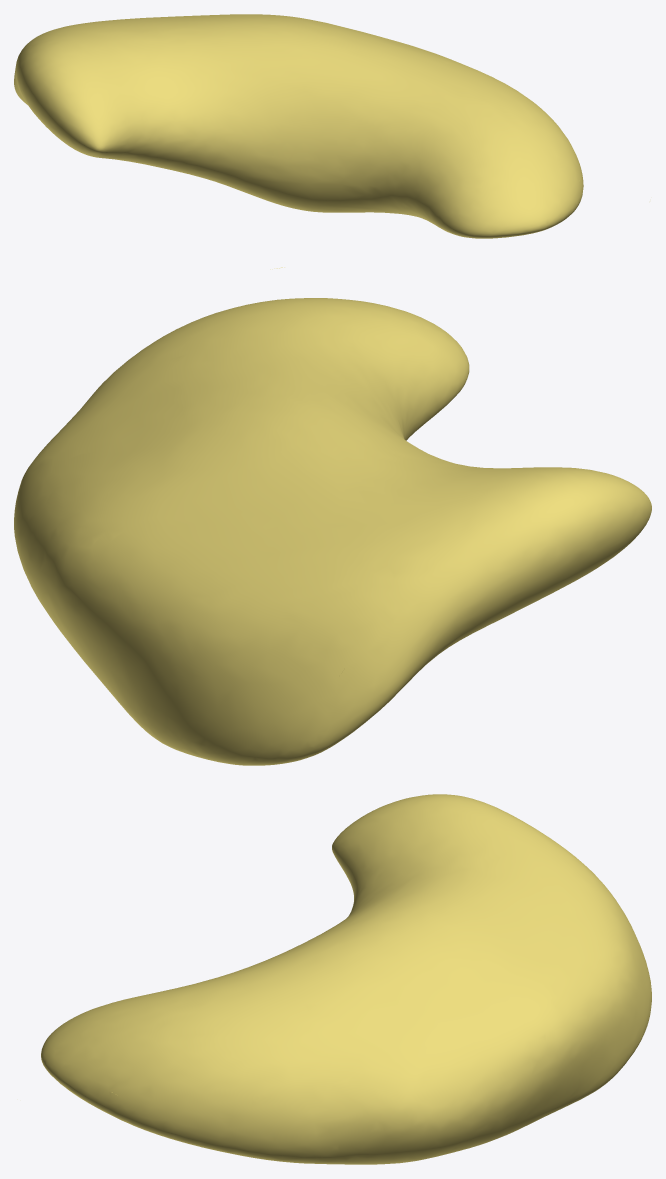
Rendered from superior-semilunar-lobule-l.glb.
3 renders of one model, top to bottom at view 1: azimuth 30°, elevation 25°; view 2: azimuth 150°, elevation 25°; view 3: azimuth 270°, elevation 25°, orthographic. The views are drawn at different scales.
Parts seen in each view (by area): view 1: Superior semilunar lobule.l; view 2: Superior semilunar lobule.l; view 3: Superior semilunar lobule.l.
Part boxes in pixels (x1,y1,x2,y2): Superior semilunar lobule.l: (14, 14, 583, 238); Superior semilunar lobule.l: (14, 267, 651, 765); Superior semilunar lobule.l: (41, 794, 651, 1164).
Size of the model in its own units: 0.049 by 0.0193 by 0.0585.
